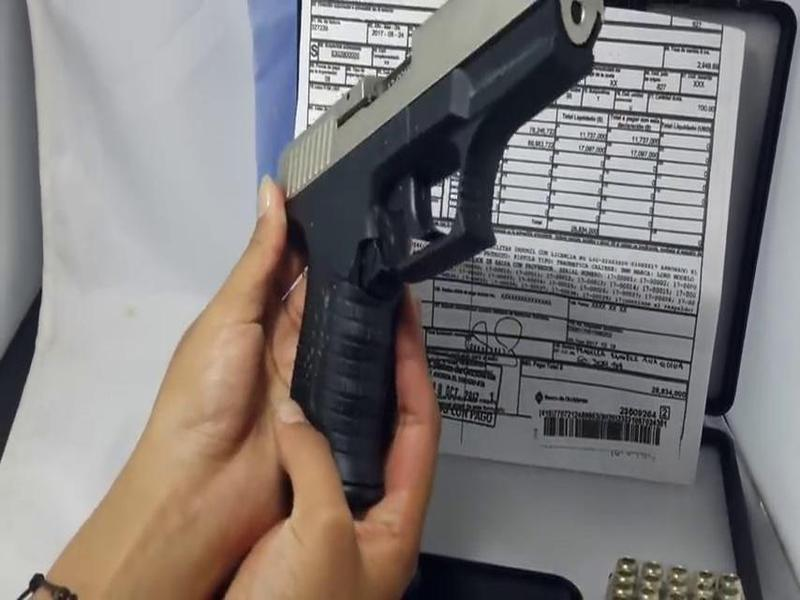Pistola: (270, 1, 622, 529)
